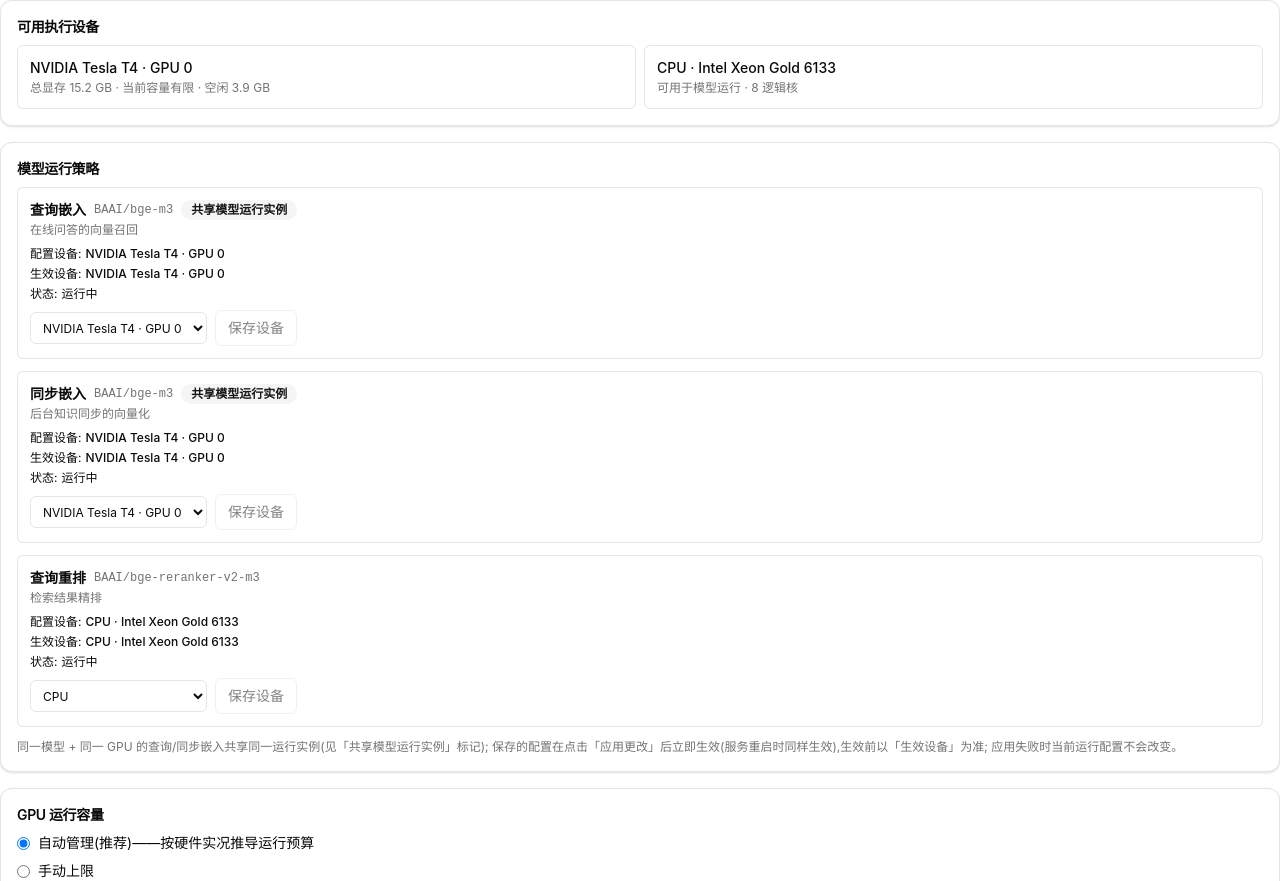
ModelRuntimeTab(§35 模型运行) › 保存 workload 设备:PUT 规范载荷 + 待「应用更改」生效提示
Check: the element with test id "policy-sync_embedding" is shown, box [17,371,1263,543]
Select "CPU" in the dropdown named "同步嵌入设备": (118, 512) [30,496,207,528]
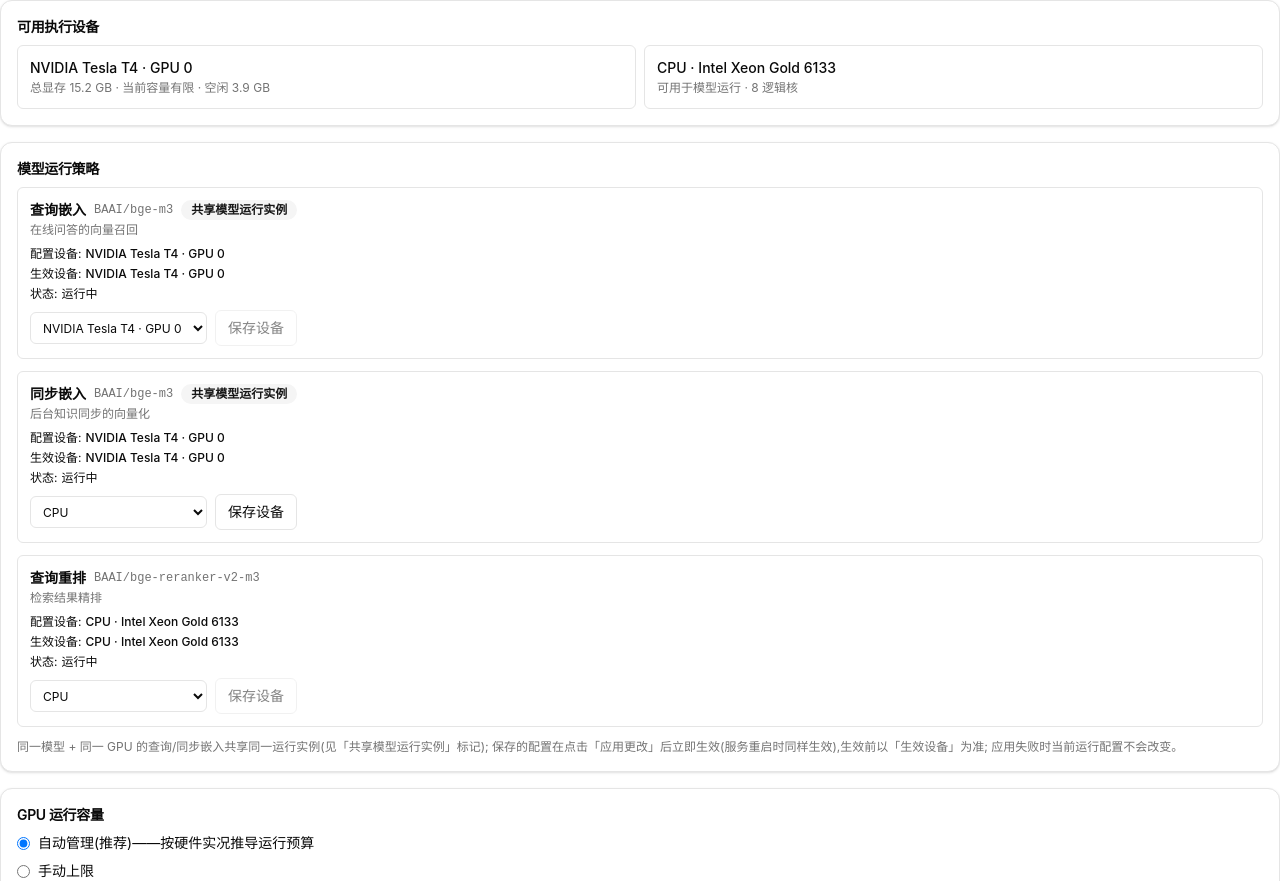
Click the button "保存设备" below "后台知识同步的向量化": (256, 512) [215,494,297,530]
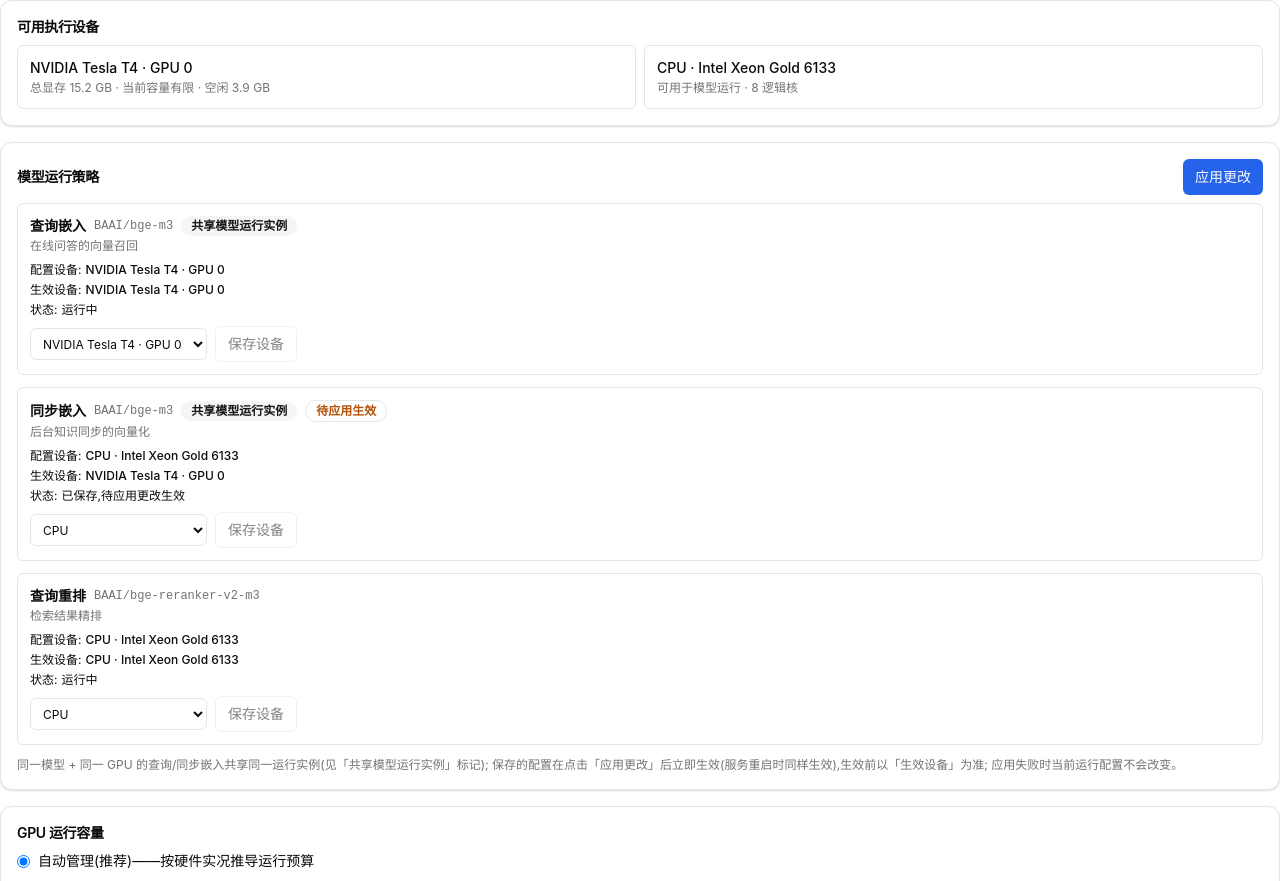
Check: the text "已保存,待应用更改生效" is shown, box [62,488,185,503]
Check: the button with test id "apply-runtime-button" is shown, box [1183,159,1263,195]
